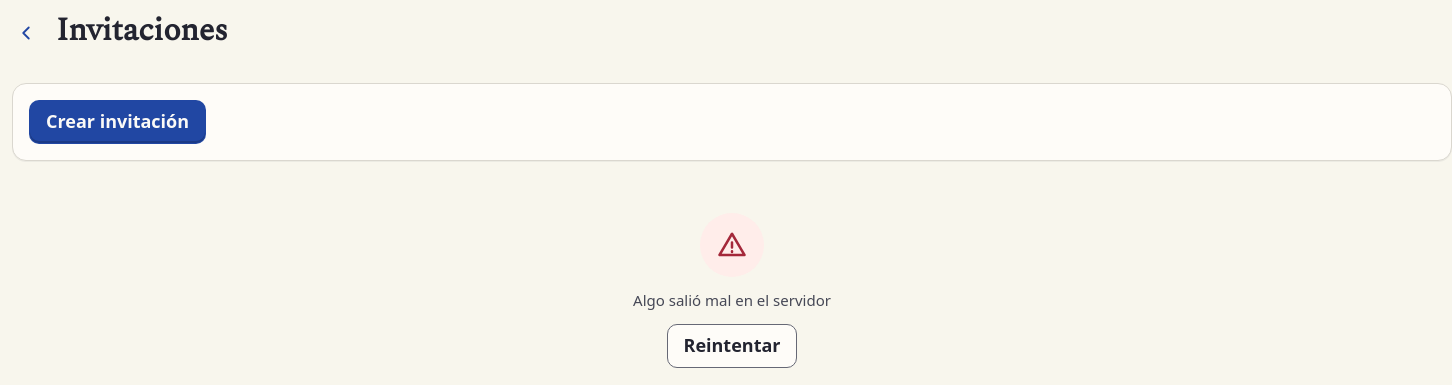
Test case: invitaciones muestra carga, vacío y error con Reintentar
Later steps or results of the test are not shown.
Expected: the text "Algo salió mal en el servidor" is shown, [633,289,831,312]
Click the button "Reintentar" at (732, 346), box [666,324,798,368]
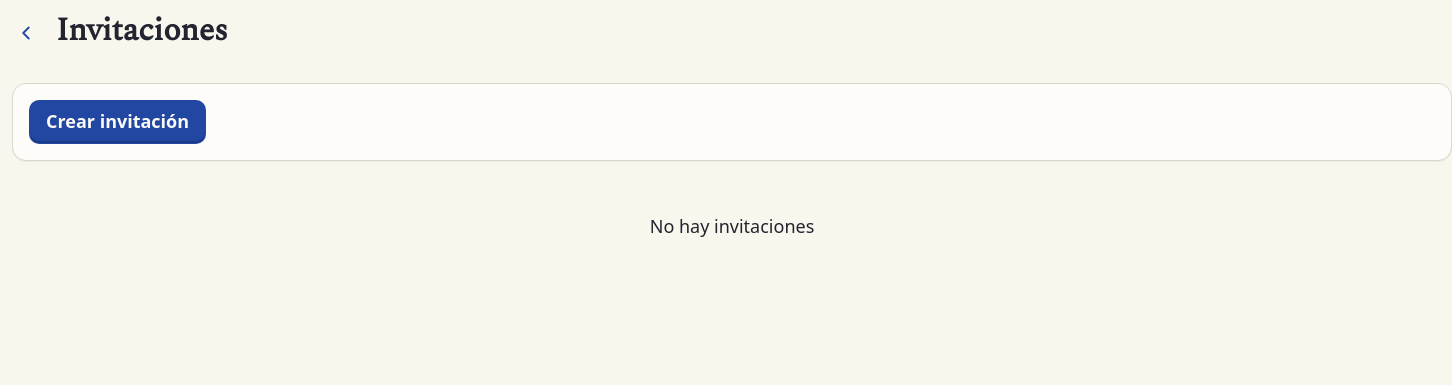
Now the text "No hay invitaciones" is shown, box [650,213,814,241]
